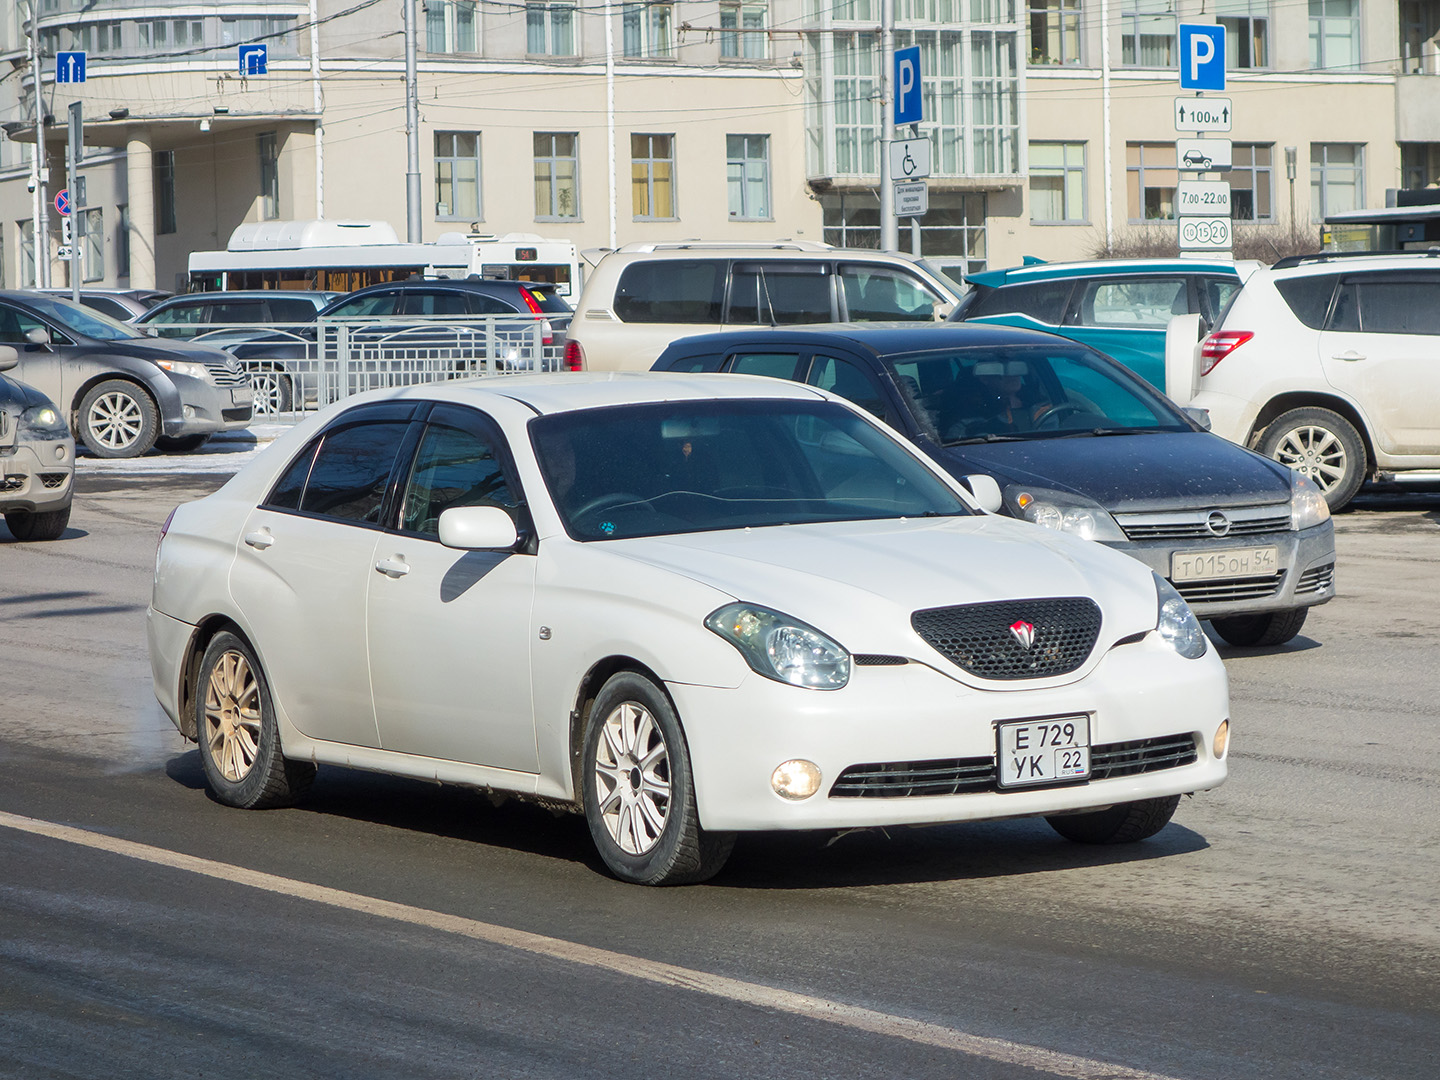number_plate: (983, 717, 1104, 784)
